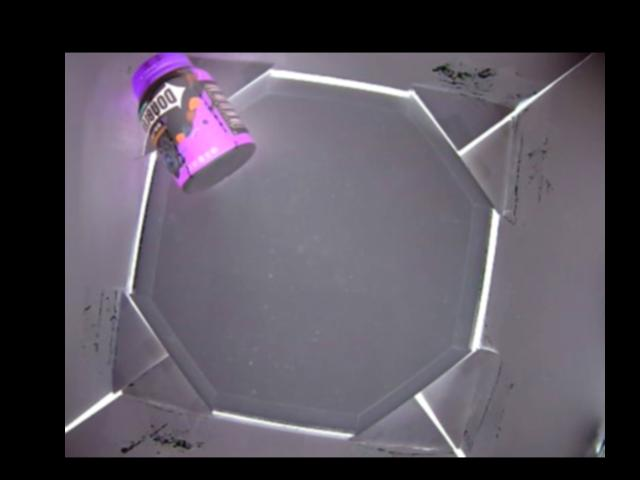Bottle: (130, 53, 257, 190)
